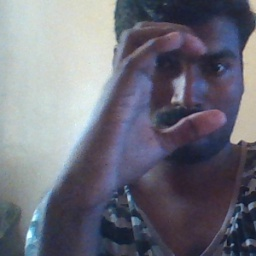C: (121, 19, 231, 147)
